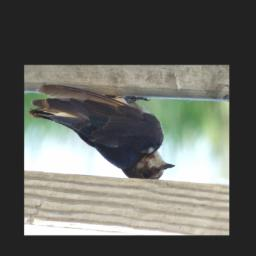Swallow: (28, 84, 176, 181)
